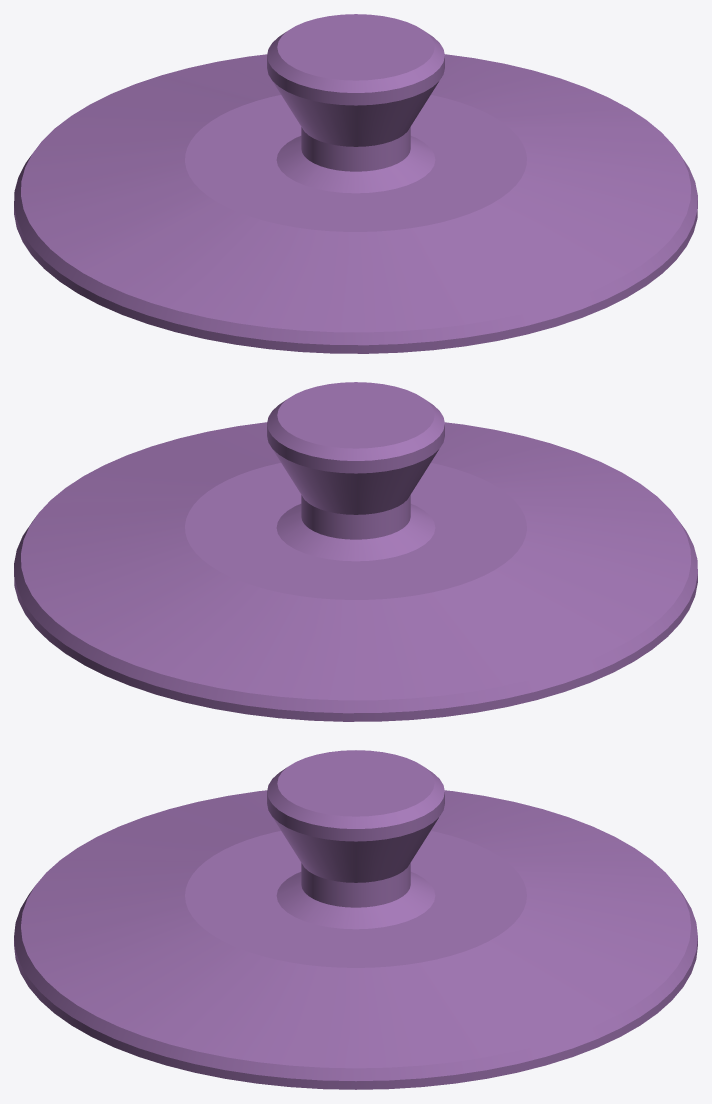
3 renders of one model, top to bottom at view 1: azimuth 30°, elevation 25°; view 2: azimuth 150°, elevation 25°; view 3: azimuth 270°, elevation 25°, orthographic.
Visible parts, largest first — view 1: lid_surface, handle; view 2: lid_surface, handle; view 3: lid_surface, handle.
Part boxes in pixels (x1,y1,x2,y2): lid_surface: (14,54,697,353); handle: (267,14,444,193); lid_surface: (14,422,697,721); handle: (267,382,444,561); lid_surface: (14,790,697,1089); handle: (267,750,444,929).
Bounding box in the file's own units: 0.1 × 0.0261 × 0.1.
